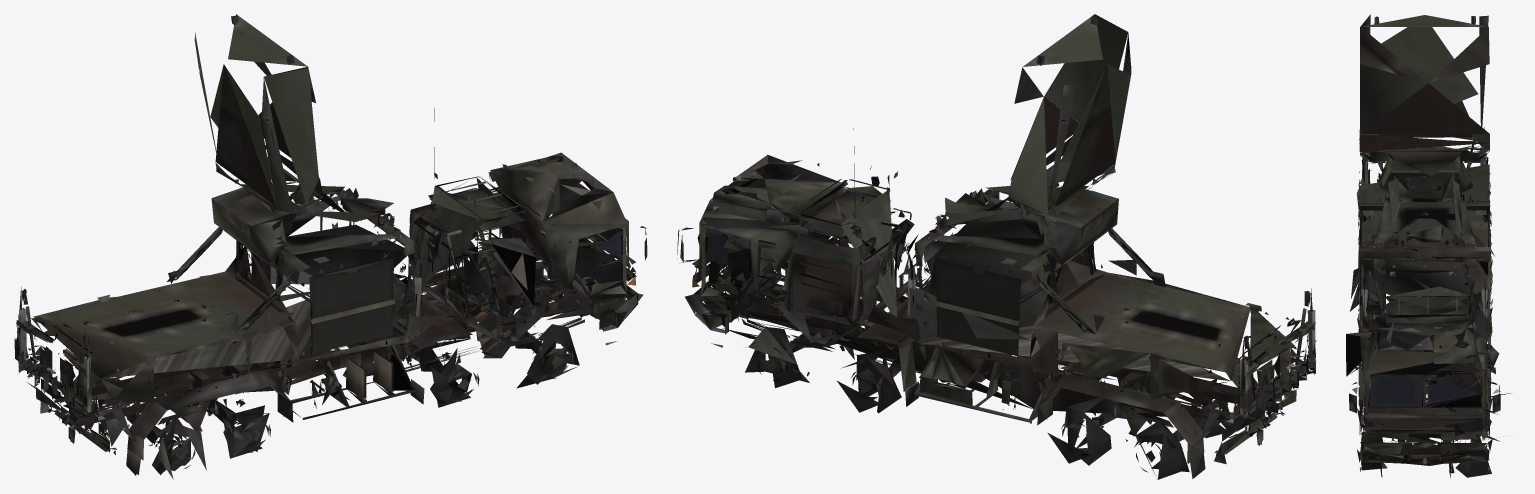
File: irist_sls_lo.glb
3 views of the same model, side by side, from view 1: azimuth 30°, elevation 25°; view 2: azimuth 150°, elevation 25°; view 3: azimuth 270°, elevation 25° (orthographic). The views are drawn at different scales.
Visible parts, largest first — view 1: g_irist_sls_hull; view 2: g_irist_sls_hull; view 3: g_irist_sls_hull.
Boxes of the visible parts, <box> form: g_irist_sls_hull: <box>14,14,647,479</box>; g_irist_sls_hull: <box>677,14,1316,479</box>; g_irist_sls_hull: <box>1346,14,1510,478</box>.
Size of the model in its own units: 9.96 by 6.58 by 2.97.
1 material, 1 textured.
